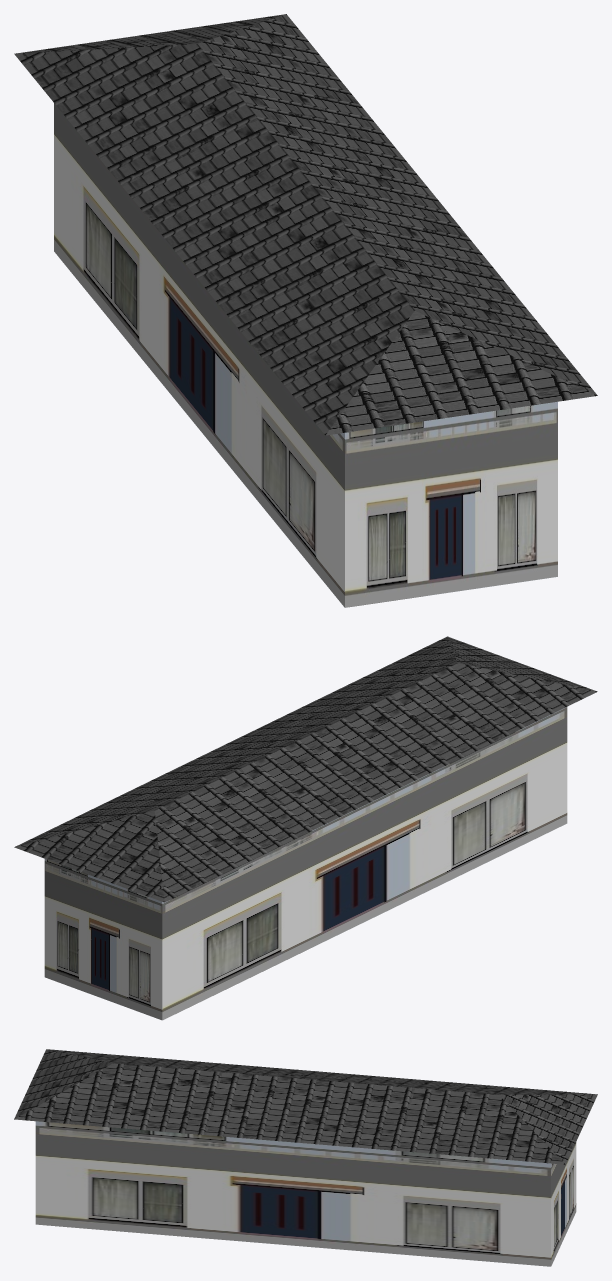
3 views of the same model, one above another, from view 1: azimuth 30°, elevation 25°; view 2: azimuth 150°, elevation 25°; view 3: azimuth 270°, elevation 25° (orthographic). The views are drawn at different scales.
Parts seen in each view (by area): view 1: CityEngineMaterial_8_m, CityEngineMaterial_7_m; view 2: CityEngineMaterial_7_m, CityEngineMaterial_8_m; view 3: CityEngineMaterial_7_m, CityEngineMaterial_8_m.
Boxes of the visible parts, box(x1,y1,x2,y2) form: CityEngineMaterial_8_m: box(14, 14, 597, 435); CityEngineMaterial_7_m: box(54, 103, 557, 607); CityEngineMaterial_7_m: box(44, 707, 567, 1020); CityEngineMaterial_8_m: box(14, 636, 597, 902); CityEngineMaterial_7_m: box(35, 1121, 576, 1266); CityEngineMaterial_8_m: box(14, 1049, 597, 1164).
Bounding box in the file's own units: 13.94 × 7.83 × 29.78.
